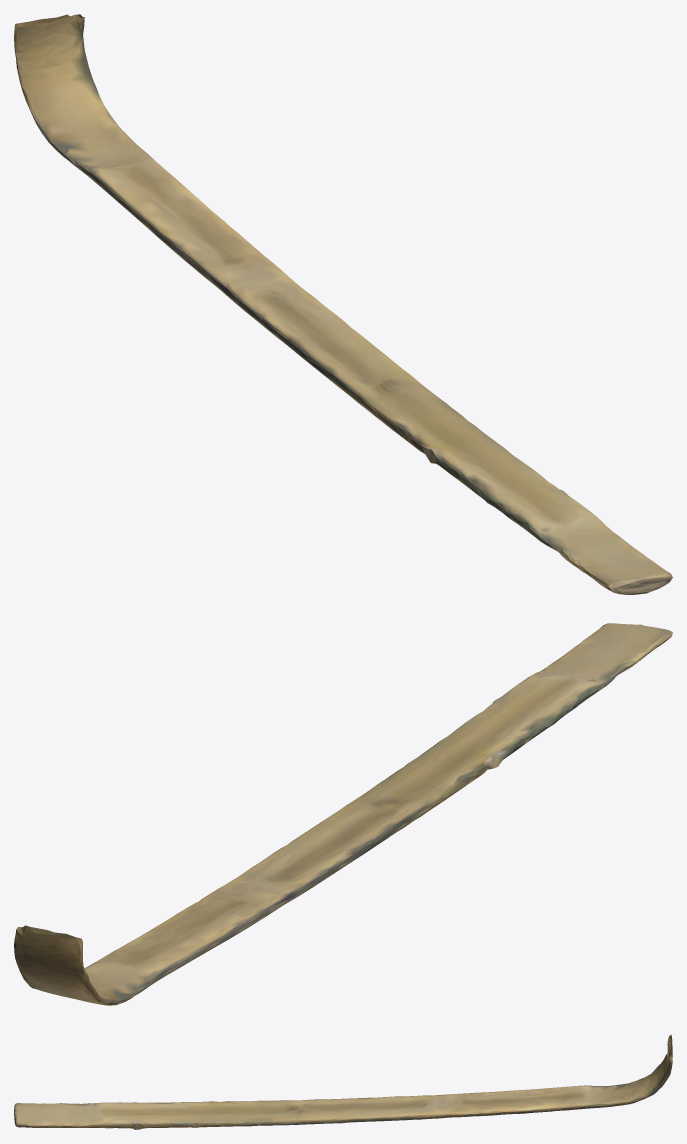
Rendered from scan.obj.
The picture shows the model from 3 angles, top to bottom: view 1: azimuth 30°, elevation 25°; view 2: azimuth 150°, elevation 25°; view 3: azimuth 270°, elevation 25°; orthographic projection. The views are drawn at different scales.
Visible parts, largest first — view 1: scan.ply; view 2: scan.ply; view 3: scan.ply.
Boxes of the visible parts, left/top/right/bottom form: scan.ply: left=14, top=14, right=672, bottom=594; scan.ply: left=14, top=623, right=672, bottom=1005; scan.ply: left=14, top=1034, right=672, bottom=1129.
Size of the model in its own units: 0.0264 by 0.0505 by 0.3845.
